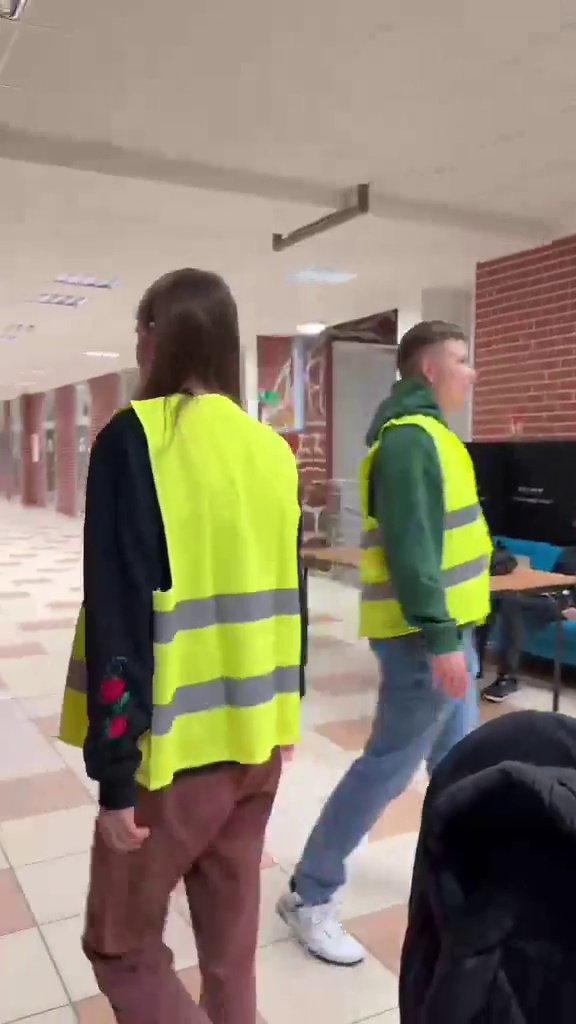vest: (60, 259, 279, 1010), (322, 303, 514, 974)
